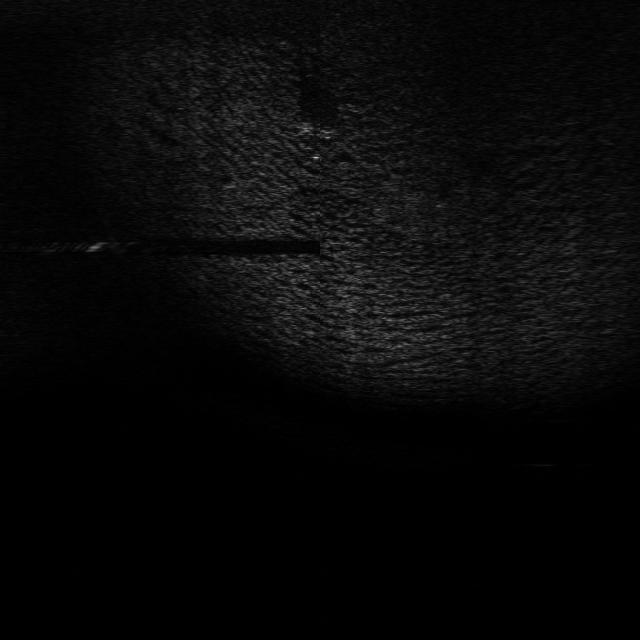plane: (293, 119, 337, 141)
